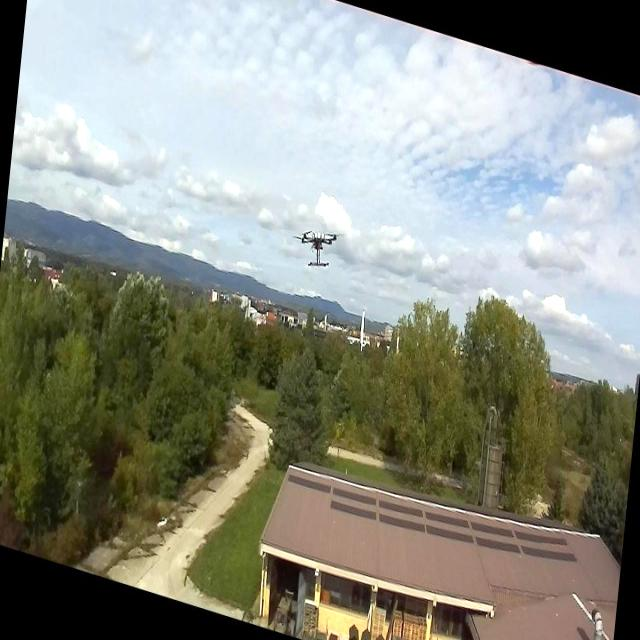drone: (295, 217, 339, 278)
